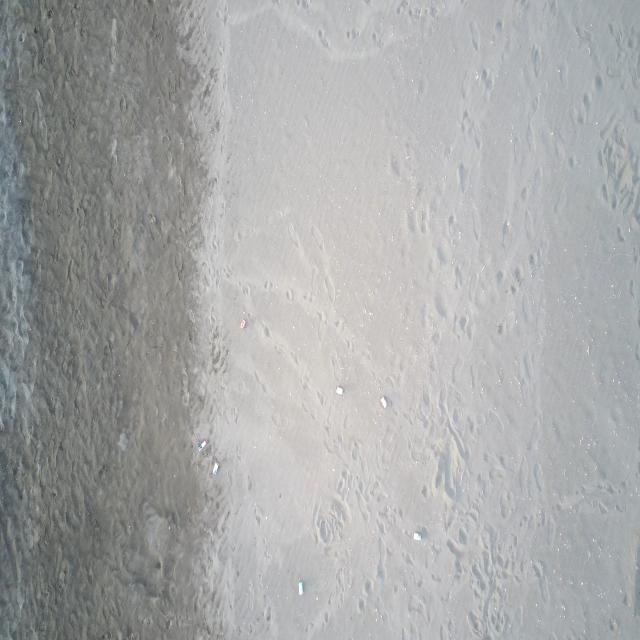tin-and-aluminum-cans: (379, 395, 389, 409), (412, 532, 422, 542), (212, 464, 219, 478), (199, 442, 208, 452), (298, 581, 303, 597), (240, 319, 247, 330), (338, 386, 345, 396)
